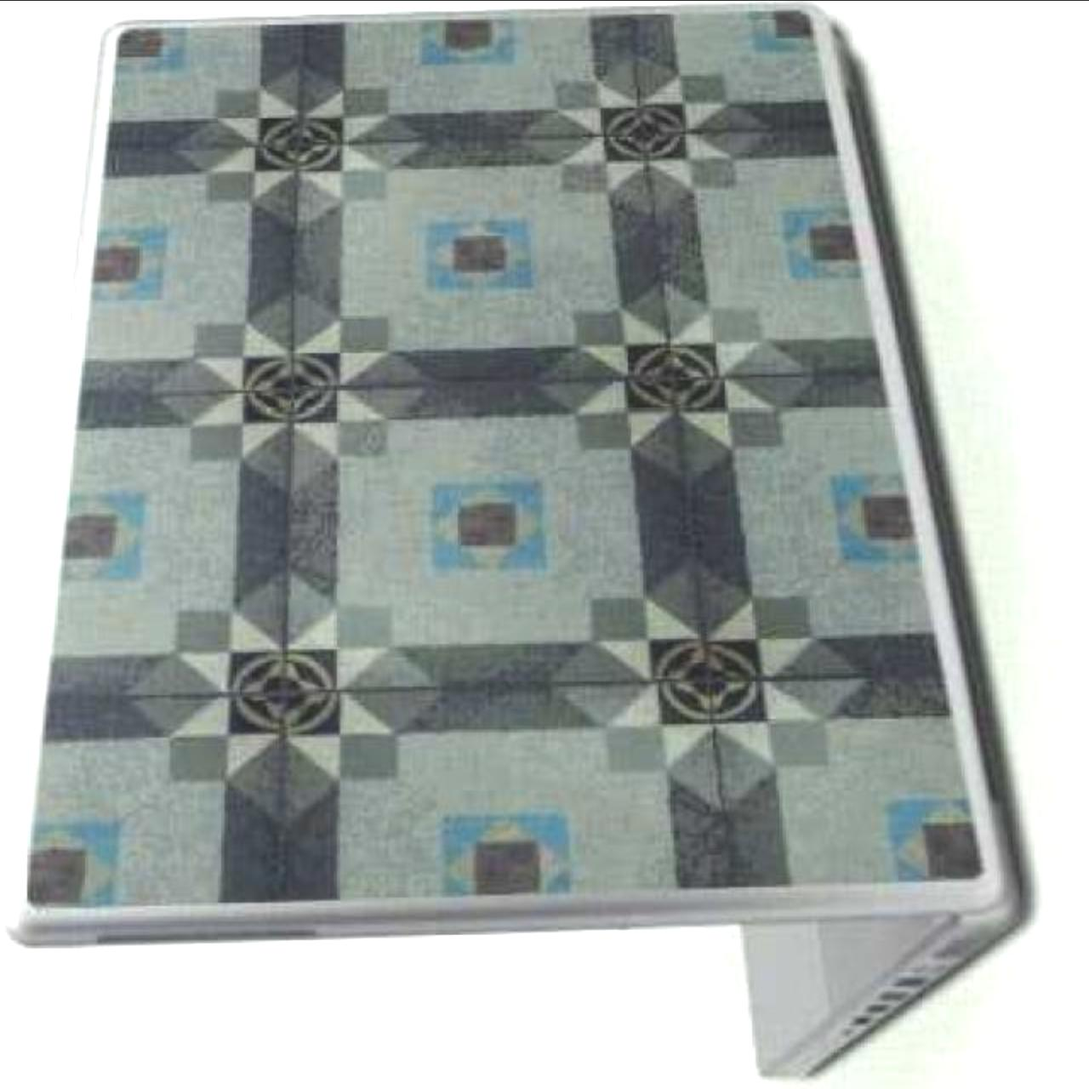laptop: (27, 19, 929, 1033)
